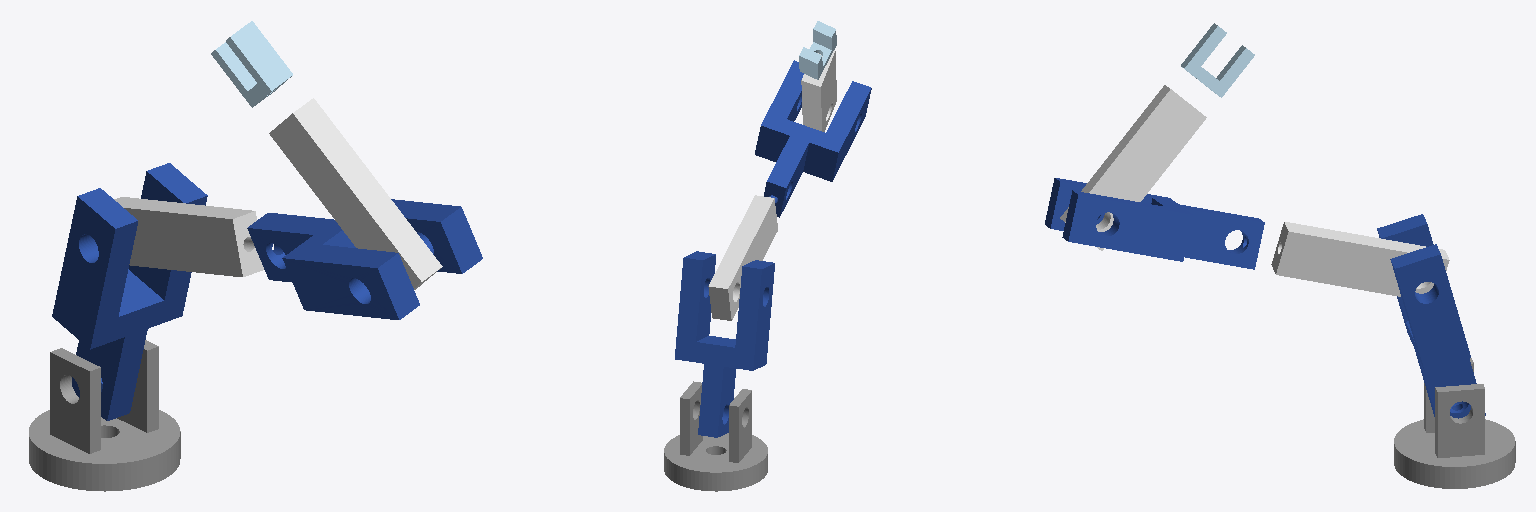
The robot description file, URDF, robot "mybot":
<?xml version="1.0" ?>
<!-- Generated using onshape-to-robot -->
<!-- Onshape document_id: 4af8569930bfdc776139afc6 -->
<robot name="mybot">
  <!-- Link base_link -->
  <link name="base_link">
    <inertial>
      <origin xyz="-0.0595984 0.133273 0.0193778" rpy="0 0 0"/>
      <mass value="0.375499"/>
      <inertia ixx="0.00294313" ixy="0" ixz="0" iyy="0.00294313" iyz="0" izz="0.00584588"/>
    </inertial>
    <!-- Part base_link -->
    <visual>
      <origin xyz="-0.0595984 0.133273 0.00667784" rpy="0 -0 0"/>
      <geometry>
        <mesh filename="package://assets/base_link.stl"/>
      </geometry>
      <material name="base_link_material">
        <color rgba="0.615686 0.811765 0.929412 1"/>
      </material>
    </visual>
    <collision>
      <origin xyz="-0.0595984 0.133273 0.00667784" rpy="0 -0 0"/>
      <geometry>
        <mesh filename="package://assets/base_link.stl"/>
      </geometry>
    </collision>
  </link>
  <!-- Link swivle -->
  <link name="swivle">
    <inertial>
      <origin xyz="-0 -0 -0.0232936" rpy="0 0 0"/>
      <mass value="0.0630945"/>
      <inertia ixx="9.0513e-05" ixy="-0" ixz="0" iyy="0.000101179" iyz="0" izz="0.000120893"/>
    </inertial>
    <!-- Part swivle -->
    <visual>
      <origin xyz="-0 -0 0.0508" rpy="3.14159 -0 -0"/>
      <geometry>
        <mesh filename="package://assets/swivle.stl"/>
      </geometry>
      <material name="swivle_material">
        <color rgba="0.647059 0.647059 0.647059 1"/>
      </material>
    </visual>
    <collision>
      <origin xyz="-0 -0 0.0508" rpy="3.14159 -0 -0"/>
      <geometry>
        <mesh filename="package://assets/swivle.stl"/>
      </geometry>
    </collision>
  </link>
  <!-- Link arm1 -->
  <link name="arm1">
    <inertial>
      <origin xyz="-0.0757655 -0.0589887 -0.0127" rpy="0 0 0"/>
      <mass value="0.074836"/>
      <inertia ixx="0.000166028" ixy="-9.36746e-05" ixz="-1e-12" iyy="0.000213413" iyz="-2e-12" izz="0.000227704"/>
    </inertial>
    <!-- Part arm1 -->
    <visual>
      <origin xyz="-0 0.127 -0.0127" rpy="1.5708 1.5708 0"/>
      <geometry>
        <mesh filename="package://assets/arm1.stl"/>
      </geometry>
      <material name="arm1_material">
        <color rgba="0.231373 0.380392 0.705882 1"/>
      </material>
    </visual>
    <collision>
      <origin xyz="-0 0.127 -0.0127" rpy="1.5708 1.5708 0"/>
      <geometry>
        <mesh filename="package://assets/arm1.stl"/>
      </geometry>
    </collision>
  </link>
  <!-- Link arm2 -->
  <link name="arm2">
    <inertial>
      <origin xyz="-0.0543508 -0.0377625 -0.0127" rpy="0 0 0"/>
      <mass value="0.0341329"/>
      <inertia ixx="3.48126e-05" ixy="-3.61968e-05" ixz="-0" iyy="6.17606e-05" iyz="0" izz="9.2858e-05"/>
    </inertial>
    <!-- Part arm2 -->
    <visual>
      <origin xyz="0.120251 0.220624 -0.0127" rpy="1.5708 1.5708 0"/>
      <geometry>
        <mesh filename="package://assets/arm2.stl"/>
      </geometry>
      <material name="arm2_material">
        <color rgba="0.917647 0.917647 0.917647 1"/>
      </material>
    </visual>
    <collision>
      <origin xyz="0.120251 0.220624 -0.0127" rpy="1.5708 1.5708 0"/>
      <geometry>
        <mesh filename="package://assets/arm2.stl"/>
      </geometry>
    </collision>
  </link>
  <!-- Link arm1_2 -->
  <link name="arm1_2">
    <inertial>
      <origin xyz="5.93e-10 3.449e-09 -0.146821" rpy="0 0 0"/>
      <mass value="0.074836"/>
      <inertia ixx="0.000231417" ixy="1.42814e-05" ixz="-6e-12" iyy="0.000282632" iyz="-2.9e-11" izz="9.30962e-05"/>
    </inertial>
    <!-- Part arm1_2 -->
    <visual>
      <origin xyz="0.0252163 0.0969847 0.0272198" rpy="2.23233 -0 -0.254371"/>
      <geometry>
        <mesh filename="package://assets/arm1.stl"/>
      </geometry>
      <material name="arm1_2_material">
        <color rgba="0.231373 0.380392 0.705882 1"/>
      </material>
    </visual>
    <collision>
      <origin xyz="0.0252163 0.0969847 0.0272198" rpy="2.23233 -0 -0.254371"/>
      <geometry>
        <mesh filename="package://assets/arm1.stl"/>
      </geometry>
    </collision>
  </link>
  <!-- Link arm2_2 -->
  <link name="arm2_2">
    <inertial>
      <origin xyz="-0.0543508 -0.0377625 -0.0127" rpy="0 0 0"/>
      <mass value="0.0341329"/>
      <inertia ixx="3.48126e-05" ixy="-3.61968e-05" ixz="0" iyy="6.17606e-05" iyz="0" izz="9.2858e-05"/>
    </inertial>
    <!-- Part arm2_2 -->
    <visual>
      <origin xyz="0.120251 0.220624 -0.0127" rpy="1.5708 1.5708 0"/>
      <geometry>
        <mesh filename="package://assets/arm2.stl"/>
      </geometry>
      <material name="arm2_2_material">
        <color rgba="0.917647 0.917647 0.917647 1"/>
      </material>
    </visual>
    <collision>
      <origin xyz="0.120251 0.220624 -0.0127" rpy="1.5708 1.5708 0"/>
      <geometry>
        <mesh filename="package://assets/arm2.stl"/>
      </geometry>
    </collision>
  </link>
  <!-- Link hand -->
  <link name="hand">
    <inertial>
      <origin xyz="0 -0 -0.0252044" rpy="0 0 0"/>
      <mass value="0.00695227"/>
      <inertia ixx="2.44576e-06" ixy="-0" ixz="0" iyy="4.34857e-06" iyz="-0" izz="2.67285e-06"/>
    </inertial>
    <!-- Part hand -->
    <visual>
      <origin xyz="0.00580608 0.15067 0.407774" rpy="2.17802 -0 -0"/>
      <geometry>
        <mesh filename="package://assets/hand.stl"/>
      </geometry>
      <material name="hand_material">
        <color rgba="0.768627 0.886275 0.952941 1"/>
      </material>
    </visual>
    <collision>
      <origin xyz="0.00580608 0.15067 0.407774" rpy="2.17802 -0 -0"/>
      <geometry>
        <mesh filename="package://assets/hand.stl"/>
      </geometry>
    </collision>
  </link>
  <!-- Joint from arm2_2 to hand -->
  <joint name="wrist5" type="revolute">
    <origin xyz="-0.146016 -0.101451 -0.0127" rpy="1.5708 -0.103846 2.17802"/>
    <parent link="arm2_2"/>
    <child link="hand"/>
    <axis xyz="0 0 1"/>
    <limit effort="10" velocity="10" lower="-3.141592653589793" upper="3.141592653589793"/>
  </joint>
  <!-- Joint from arm1_2 to arm2_2 -->
  <joint name="joint4" type="revolute">
    <origin xyz="-0.0122913 0.00319579 -0.2032" rpy="1.5708 1.08193 -1.82517"/>
    <parent link="arm1_2"/>
    <child link="arm2_2"/>
    <axis xyz="0 0 1"/>
    <limit effort="10" velocity="10" lower="-3.141592653589793" upper="3.141592653589793"/>
  </joint>
  <!-- Joint from arm2 to arm1_2 -->
  <joint name="wrist3" type="revolute">
    <origin xyz="-0.125156 -0.0869577 -0.0127" rpy="-0.607222 1.5708 0"/>
    <parent link="arm2"/>
    <child link="arm1_2"/>
    <axis xyz="0 0 1"/>
    <limit effort="10" velocity="10" lower="-3.141592653589793" upper="3.141592653589793"/>
  </joint>
  <!-- Joint from arm1 to arm2 -->
  <joint name="joint2" type="revolute">
    <origin xyz="-0.120251 -0.0936238 -0" rpy="0 0 1.09528"/>
    <parent link="arm1"/>
    <child link="arm2"/>
    <axis xyz="0 0 1"/>
    <limit effort="10" velocity="10" lower="-3.141592653589793" upper="3.141592653589793"/>
  </joint>
  <!-- Joint from swivle to arm1 -->
  <joint name="joint1" type="revolute">
    <origin xyz="-0.0127 0 -0.0762" rpy="1.5708 -1.16849 -1.5708"/>
    <parent link="swivle"/>
    <child link="arm1"/>
    <axis xyz="0 0 1"/>
    <limit effort="10" velocity="10" lower="-3.141592653589793" upper="3.141592653589793"/>
  </joint>
  <!-- Joint from base_link to swivle -->
  <joint name="base_rot" type="revolute">
    <origin xyz="-0.0595984 0.133273 0.0574778" rpy="3.14159 -0 -2.95606"/>
    <parent link="base_link"/>
    <child link="swivle"/>
    <axis xyz="0 0 1"/>
    <limit effort="10" velocity="10" lower="-3.141592653589793" upper="3.141592653589793"/>
  </joint>
</robot>

--- Render facts (derived) ---
3 views of the same robot in one strip: view 1: azimuth 30°, elevation 25°; view 2: azimuth 150°, elevation 25°; view 3: azimuth 270°, elevation 25° (orthographic).
Model mybot with 7 links and 6 joints (6 revolute), rooted at base_link, posed every joint at zero.
Links seen in each view (by area): view 1: arm1, arm1_2, swivle, arm2_2, arm2, hand; view 2: arm1, arm1_2, swivle, arm2, arm2_2, hand; view 3: arm1_2, swivle, arm1, arm2, arm2_2, hand.
Link boxes in pixels (x1,y1,x2,y2): arm1: [52, 163, 207, 420]; arm1_2: [247, 199, 482, 319]; swivle: [29, 340, 180, 491]; arm2_2: [269, 98, 442, 289]; arm2: [114, 197, 263, 276]; hand: [211, 21, 292, 107]; arm1: [675, 251, 774, 437]; arm1_2: [755, 60, 871, 217]; swivle: [664, 381, 767, 491]; arm2: [708, 195, 777, 320]; arm2_2: [801, 50, 836, 131]; hand: [799, 21, 836, 79]; arm1_2: [1045, 178, 1264, 269]; swivle: [1394, 358, 1515, 488]; arm1: [1377, 214, 1485, 418]; arm2: [1271, 222, 1449, 296]; arm2_2: [1060, 85, 1206, 250]; hand: [1181, 23, 1254, 97].
Bounding box of the posed robot: 0.1959 × 0.4925 × 0.5048 m (x, y, z).
Meshes: 5 distinct files referenced, 6 mesh visuals loaded (4 binary STL); not drawn: 1 (reference not matched to a file when rendering).
